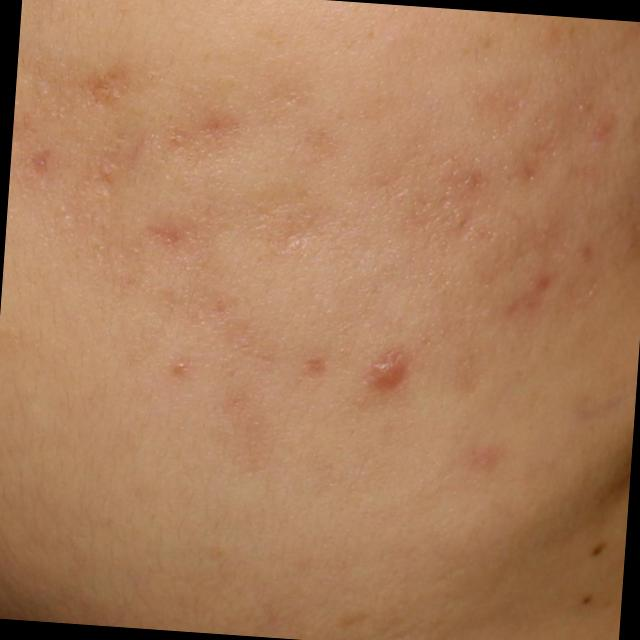nodule: (370, 353, 404, 392)
